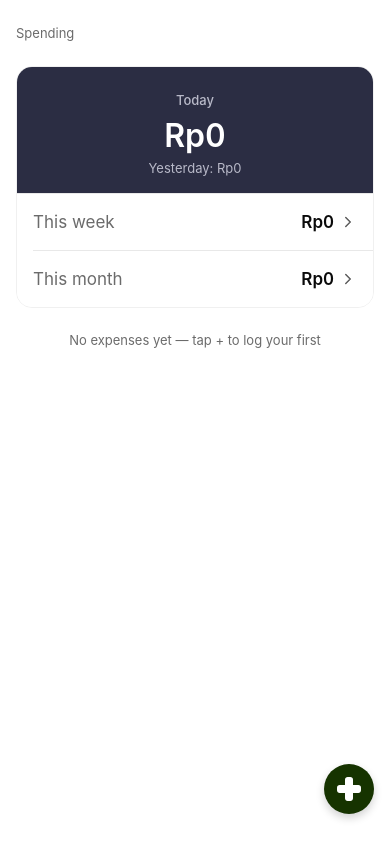
Test case: HomeScreen › opens add expense flow from the floating button
The width and height of the screenshot is (390, 844).
Click the button named "Add expense" at (349, 789), box [324,764,374,814]
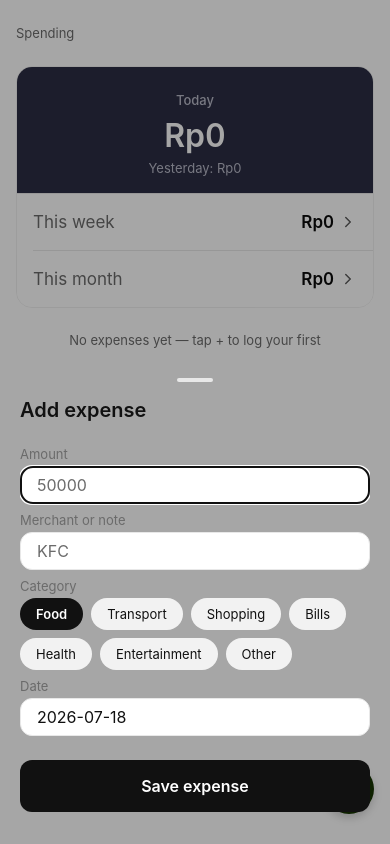
Expected: the text "Add expense" is shown, [20,398,146,422]
